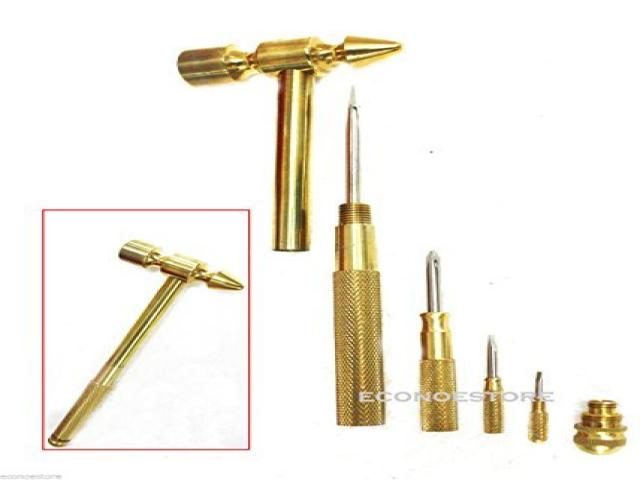Hammer: (178, 37, 402, 251), (48, 240, 244, 447)
Screwdriver: (333, 87, 386, 426), (421, 251, 459, 431), (485, 336, 504, 433), (529, 371, 549, 442)
